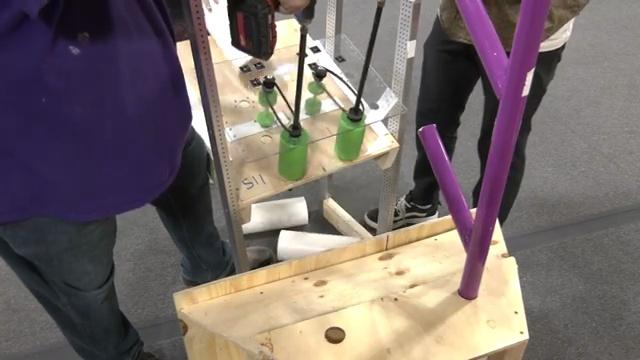CORAL: (240, 195, 309, 235), (277, 229, 361, 259)
